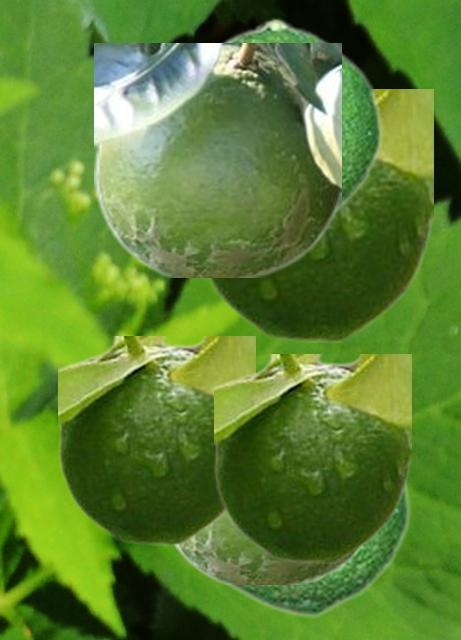dalandan: (203, 89, 432, 341), (94, 43, 340, 276), (58, 336, 254, 544), (214, 354, 410, 562), (214, 17, 382, 216), (221, 475, 410, 617), (169, 514, 362, 583)
